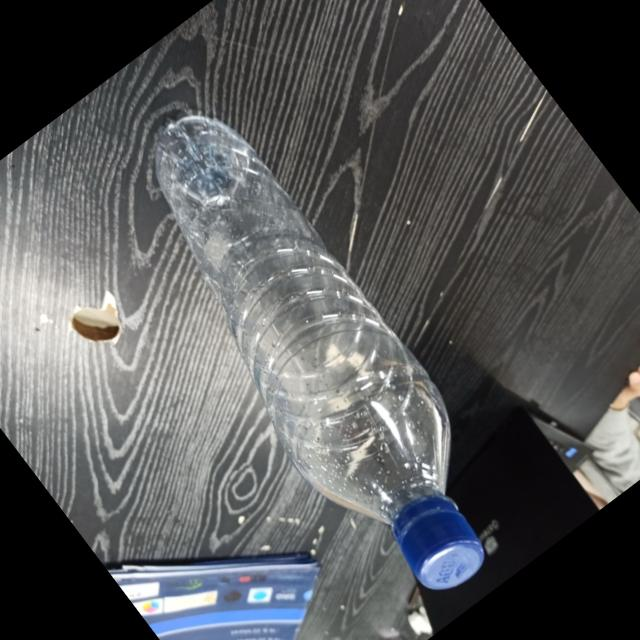BotolPlastik: (82, 85, 544, 623)
